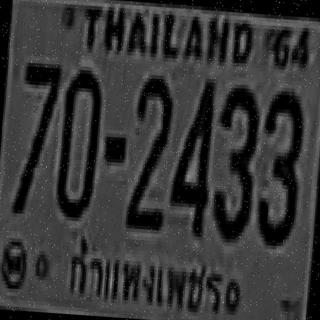N00: (54, 65, 102, 218)
N02: (126, 72, 173, 228)
N03: (209, 80, 260, 240), (254, 86, 304, 243)
N04: (166, 73, 215, 233)
N07: (11, 58, 61, 212)
P16: (59, 239, 227, 320)
